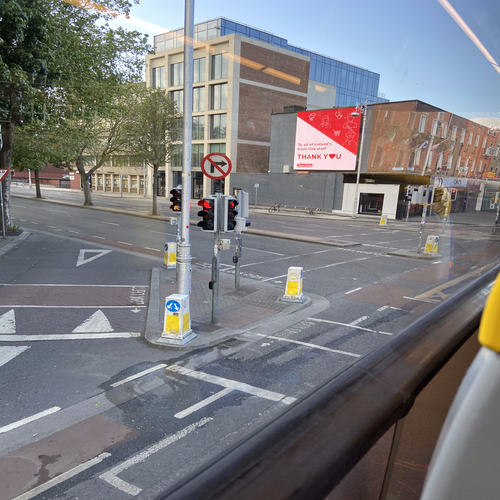Keep Left Right: (161, 296, 192, 346)
No Turn: (201, 148, 232, 179)
Traffic Light: (196, 189, 222, 235), (225, 191, 238, 242)
